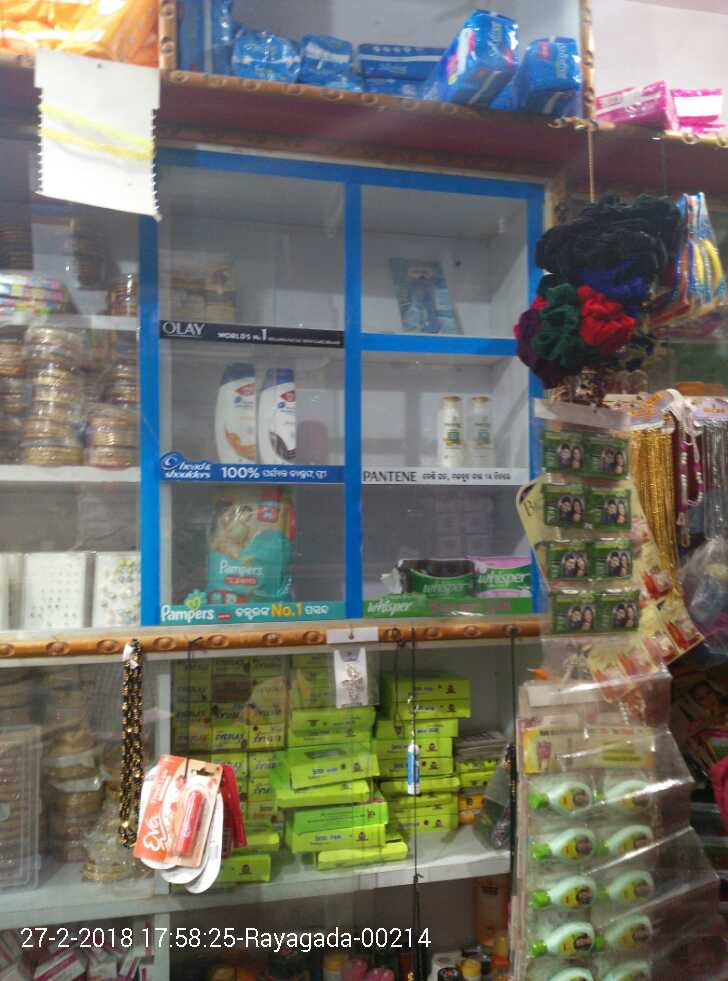venus: (401, 262, 450, 331)
